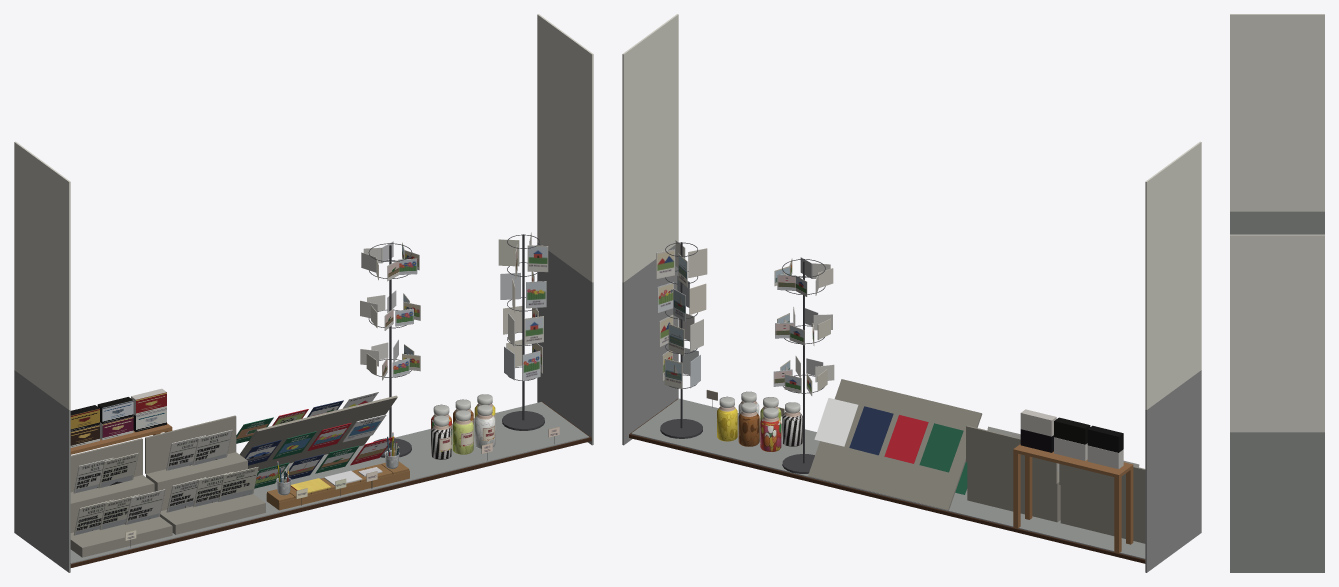
Rendered from newsagent_display.glb.
3 renders of one model, left to right at view 1: azimuth 30°, elevation 25°; view 2: azimuth 150°, elevation 25°; view 3: azimuth 270°, elevation 25°, orthographic. The views are drawn at different scales.
Visible parts, largest first — view 1: return_wall_l_plaster, return_wall_r_plaster, return_wall_l_dado, return_wall_r_dado, bed_top, paper_stand_1, magazines, paper_stand_0, card_rack, postcard_rack, magazine_board, cigarette_cartons (+16 smaller); view 2: return_wall_l_plaster, return_wall_r_plaster, magazine_board, return_wall_l_dado, bed_top, return_wall_r_dado, magazines, paper_stand_1, card_rack, paper_stand_0, postcard_rack, cigarette_cartons (+6 smaller); view 3: return_wall_r_plaster, return_wall_l_plaster, return_wall_r_dado, return_wall_l_dado.
Part boxes in pixels (<box>): return_wall_l_plaster: <box>14,141,70,409</box>; return_wall_r_plaster: <box>537,14,593,282</box>; return_wall_l_dado: <box>14,370,70,572</box>; return_wall_r_dado: <box>537,242,593,445</box>; bed_top: <box>70,402,589,563</box>; paper_stand_1: <box>145,415,265,534</box>; magazines: <box>236,391,394,488</box>; paper_stand_0: <box>70,438,172,557</box>; card_rack: <box>498,232,548,380</box>; postcard_rack: <box>360,241,420,380</box>; magazine_board: <box>239,395,397,470</box>; cigarette_cartons: <box>70,388,166,447</box>; return_wall_l_plaster: <box>1145,141,1201,409</box>; return_wall_r_plaster: <box>622,14,678,282</box>; magazine_board: <box>808,379,982,510</box>; return_wall_l_dado: <box>1145,370,1201,572</box>; bed_top: <box>631,398,1145,559</box>; return_wall_r_dado: <box>622,245,678,445</box>; magazines: <box>814,398,967,494</box>; paper_stand_1: <box>966,425,1060,522</box>; card_rack: <box>656,240,707,388</box>; paper_stand_0: <box>1059,464,1145,543</box>; postcard_rack: <box>773,257,834,395</box>; cigarette_cartons: <box>1020,409,1123,469</box>; return_wall_r_plaster: <box>1230,234,1324,432</box>; return_wall_l_plaster: <box>1230,14,1324,211</box>; return_wall_r_dado: <box>1230,432,1324,572</box>; return_wall_l_dado: <box>1230,211,1324,234</box>.
Bounding box in the file's own units: 3.37 × 2.4 × 0.61.
19 materials, 9 textured.
